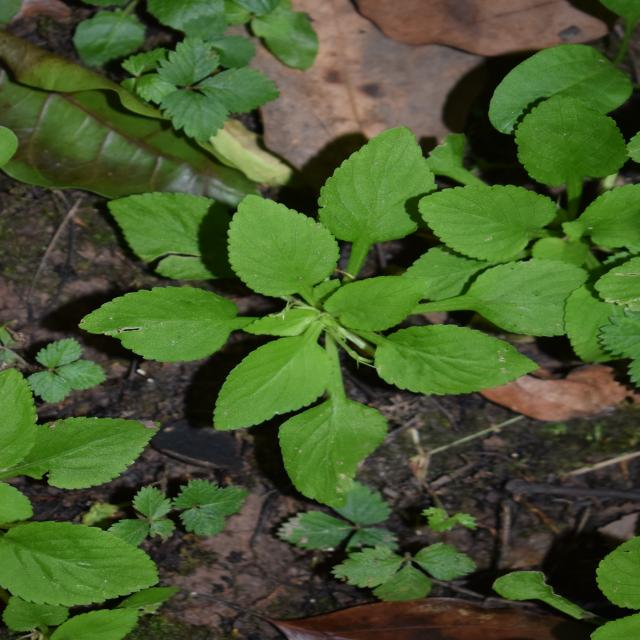Viola: (174, 111, 460, 491)
